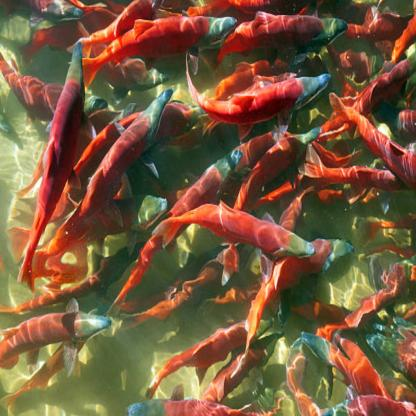sockeye: (64, 72, 170, 256), (26, 35, 82, 288), (180, 189, 316, 272), (192, 63, 330, 125), (5, 293, 106, 358)
sockeye-group: (40, 0, 400, 390)
